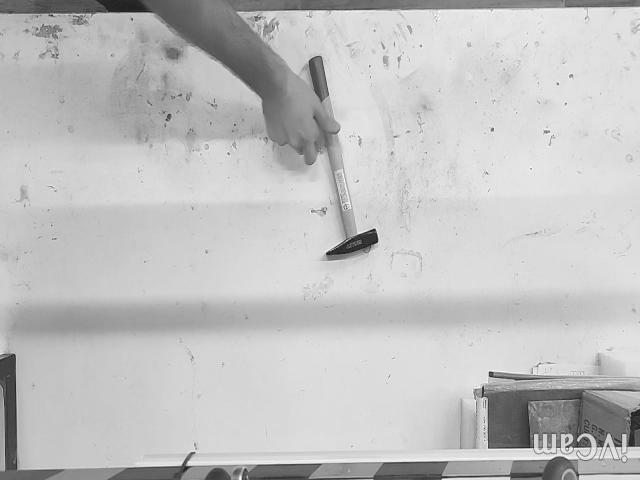Hammer: (308, 55, 378, 255)
Hand: (145, 2, 340, 165)
